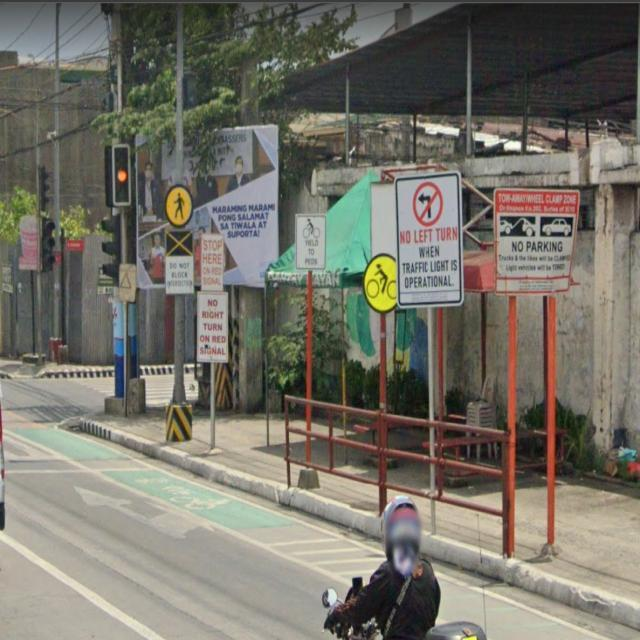bike lane: (362, 252, 404, 318)
pedestrian crossing: (162, 180, 197, 230)
